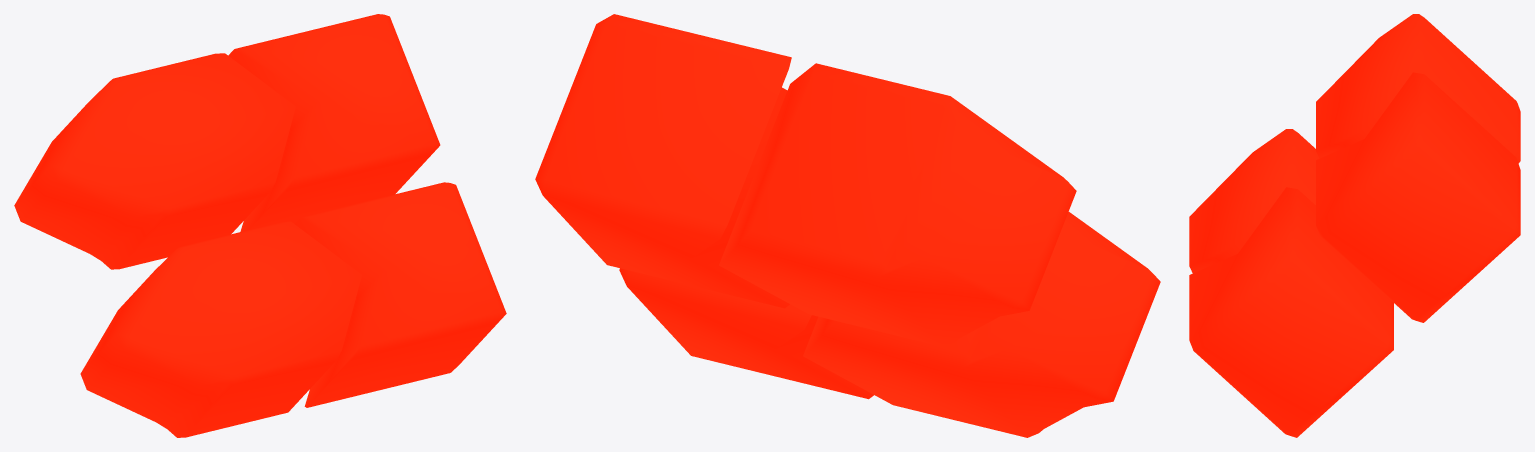
The model's file is firerate up.glb.
3 renders of one model, left to right at view 1: azimuth 30°, elevation 25°; view 2: azimuth 150°, elevation 25°; view 3: azimuth 270°, elevation 25°, orthographic. The views are drawn at different scales.
Parts seen in each view (by area): view 1: Cube.002; view 2: Cube.002; view 3: Cube.002.
Boxes of the visible parts, left/top/right/bottom form: Cube.002: left=14, top=14, right=506, bottom=437; Cube.002: left=535, top=14, right=1160, bottom=437; Cube.002: left=1189, top=14, right=1520, bottom=437.
Bounding box in the file's own units: 0.3403 × 0.287 × 0.287.
